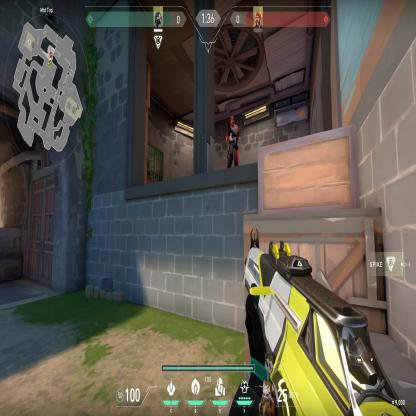enemy: (224, 111, 240, 170)
